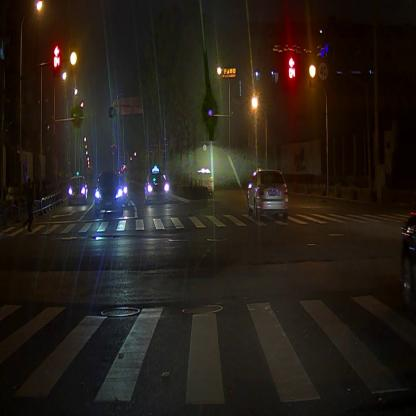Red Light: (287, 51, 298, 86), (52, 42, 61, 73)
Speed Limit 40: (318, 60, 330, 83)
